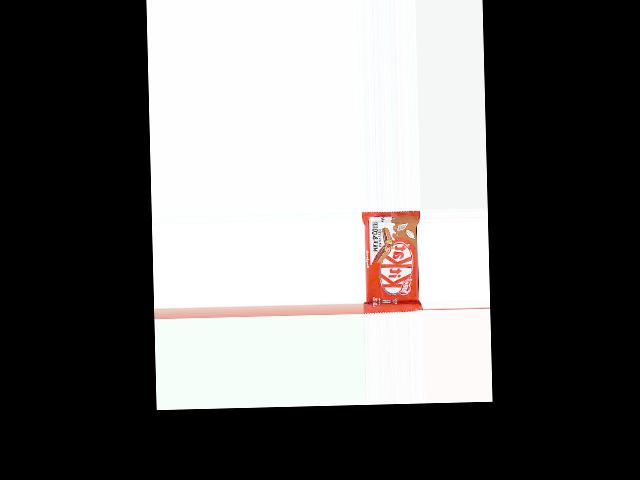chocolate: (360, 209, 422, 313)
